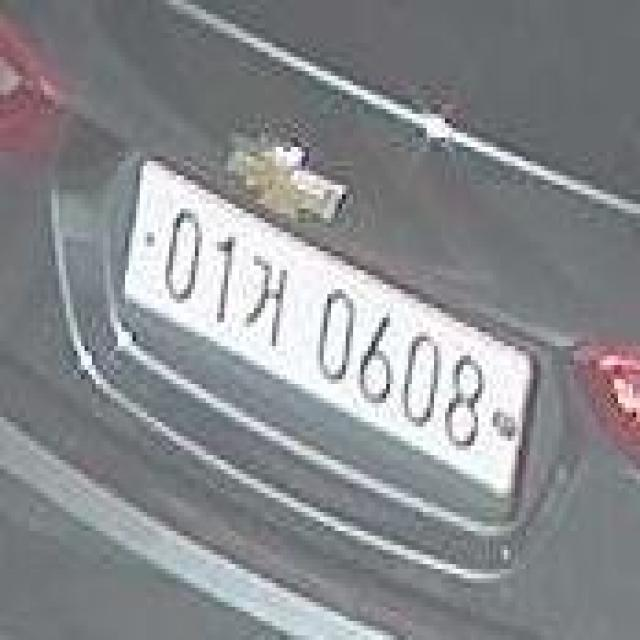illegal_plate: (114, 155, 539, 514)
